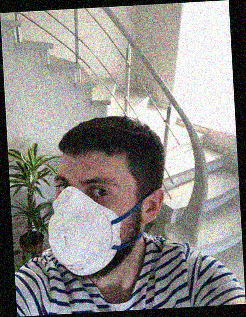with_mask: (47, 167, 132, 282)
